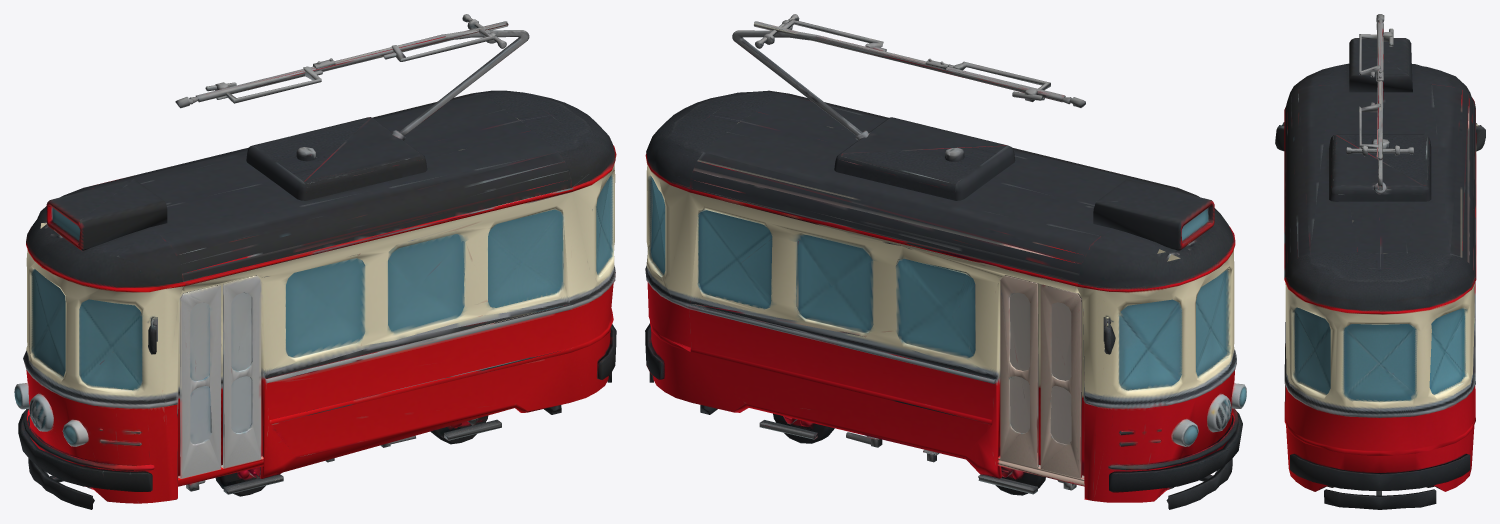
Rendered from tramCar.782991b8.glb.
The picture shows the model from 3 angles, left to right: view 1: azimuth 30°, elevation 25°; view 2: azimuth 150°, elevation 25°; view 3: azimuth 270°, elevation 25°; orthographic projection. The views are drawn at different scales.
Bounding box in the file's own units: 0.9575 × 0.6221 × 0.3472.
Materials: 1 (1 with a texture image).
